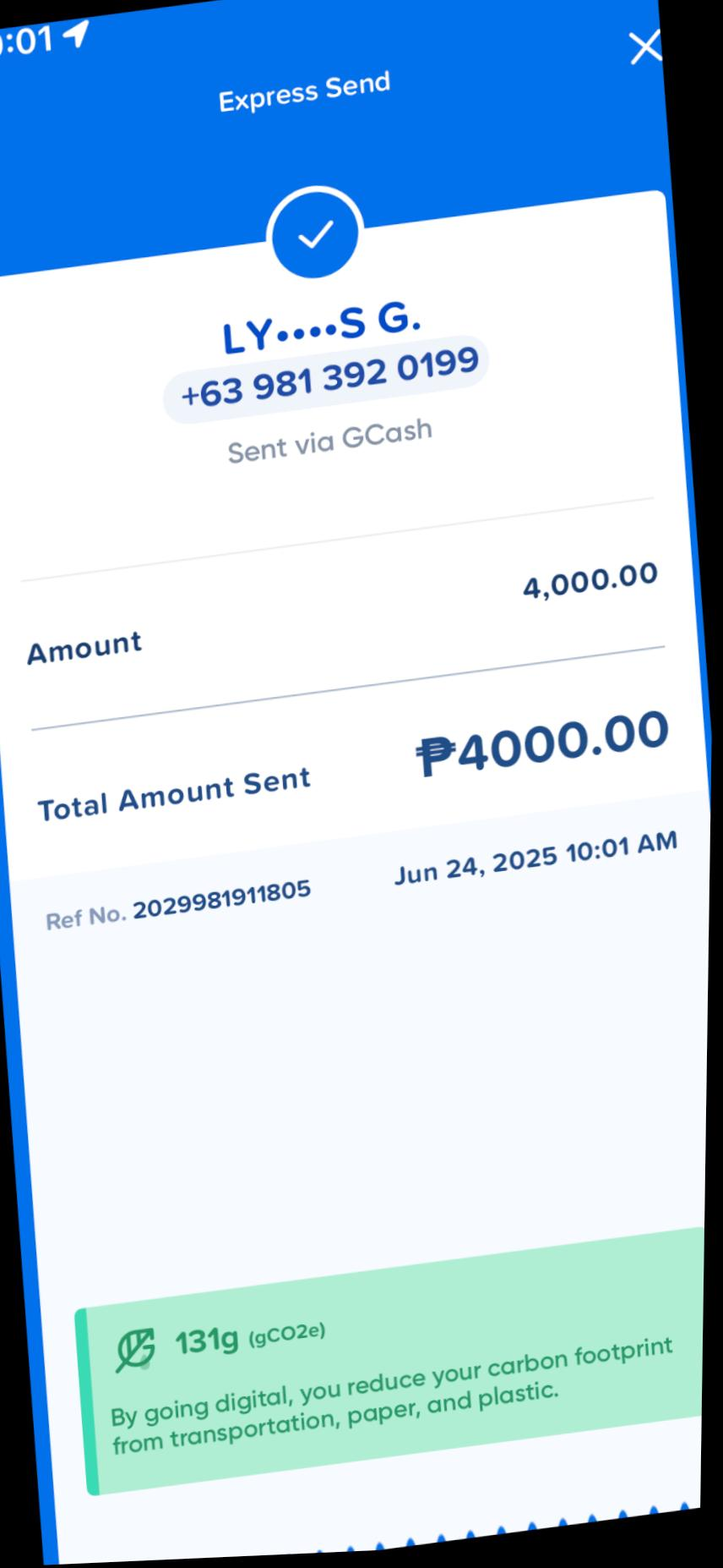Receipt: (0, 5, 712, 1565)
